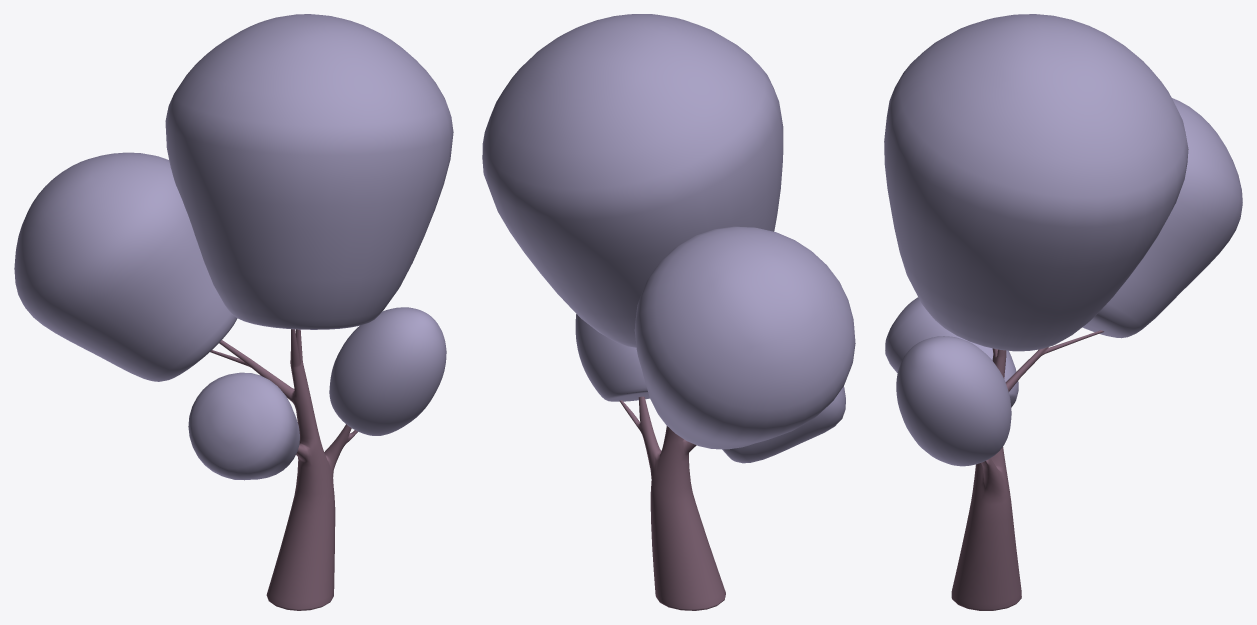
The model's file is SM_20014ArvoreCrescida.fbx.
3 renders of one model, left to right at view 1: azimuth 30°, elevation 25°; view 2: azimuth 150°, elevation 25°; view 3: azimuth 270°, elevation 25°, orthographic. The views are drawn at different scales.
Parts seen in each view (by area): view 1: SM_20014ArvoreCrescida_geo_1, SM_20014ArvoreCrescida_geo_3, SM_20014ArvoreCrescida_geo_4, SM_20014ArvoreCrescida_geo_5, SM_20014ArvoreCrescida_geo_2; view 2: SM_20014ArvoreCrescida_geo_1, SM_20014ArvoreCrescida_geo_3, SM_20014ArvoreCrescida_geo_5, SM_20014ArvoreCrescida_geo_4, SM_20014ArvoreCrescida_geo_2; view 3: SM_20014ArvoreCrescida_geo_1, SM_20014ArvoreCrescida_geo_3, SM_20014ArvoreCrescida_geo_4, SM_20014ArvoreCrescida_geo_5, SM_20014ArvoreCrescida_geo_2.
Part boxes in pixels (x1,y1,x2,y2): SM_20014ArvoreCrescida_geo_1: [165, 14, 453, 329]; SM_20014ArvoreCrescida_geo_3: [14, 152, 237, 381]; SM_20014ArvoreCrescida_geo_4: [329, 307, 446, 435]; SM_20014ArvoreCrescida_geo_5: [210, 329, 357, 610]; SM_20014ArvoreCrescida_geo_2: [188, 372, 299, 480]; SM_20014ArvoreCrescida_geo_1: [482, 14, 783, 347]; SM_20014ArvoreCrescida_geo_3: [634, 226, 855, 449]; SM_20014ArvoreCrescida_geo_5: [619, 396, 725, 610]; SM_20014ArvoreCrescida_geo_4: [575, 314, 649, 401]; SM_20014ArvoreCrescida_geo_2: [722, 386, 845, 463]; SM_20014ArvoreCrescida_geo_1: [884, 14, 1188, 351]; SM_20014ArvoreCrescida_geo_3: [1082, 98, 1242, 338]; SM_20014ArvoreCrescida_geo_4: [896, 336, 1011, 466]; SM_20014ArvoreCrescida_geo_5: [951, 330, 1103, 610]; SM_20014ArvoreCrescida_geo_2: [885, 297, 1018, 407].
Bounding box in the file's own units: 382 × 551 × 306.
